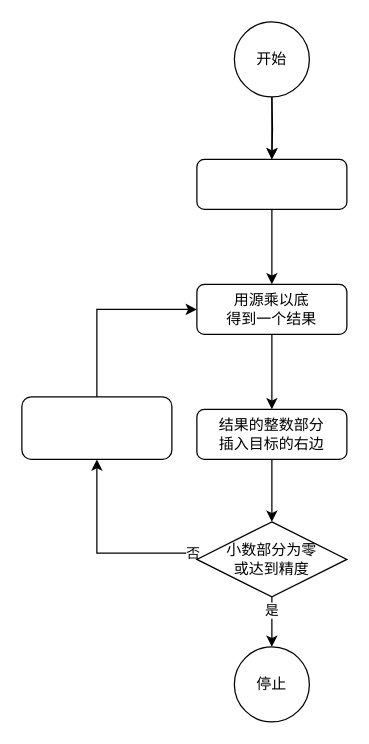
This 369x744 diagram has some shape labels left out. Here are the shapes that lost their labels. From the top down, the box of each, then its label:
(196, 158, 347, 209): 已知源和底
(21, 396, 172, 459): 结果的小数部分 变成新源
